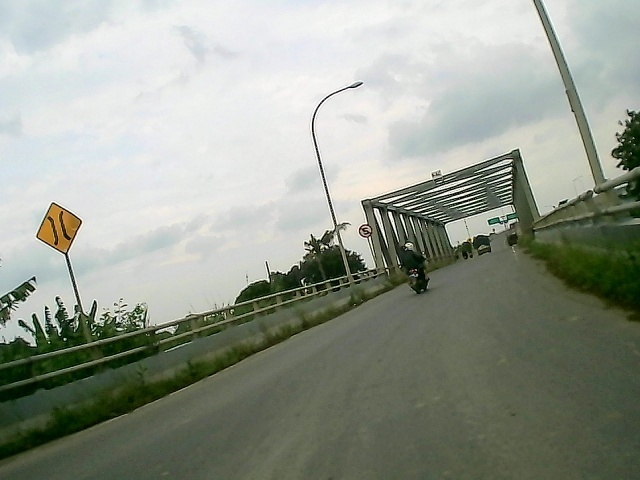Jembatan: (29, 199, 89, 257)
